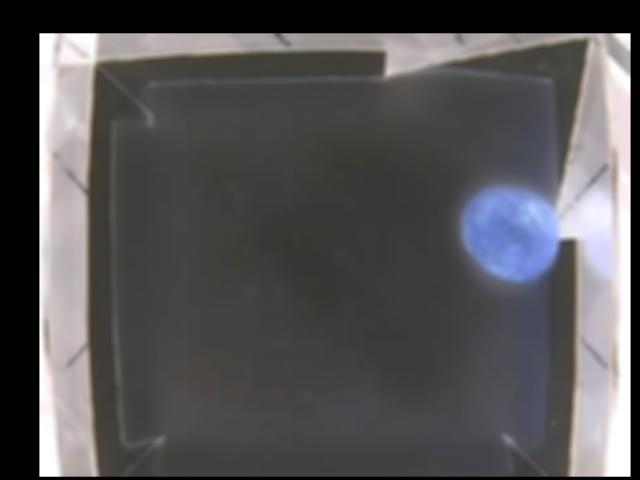Potato: (459, 188, 559, 279)
